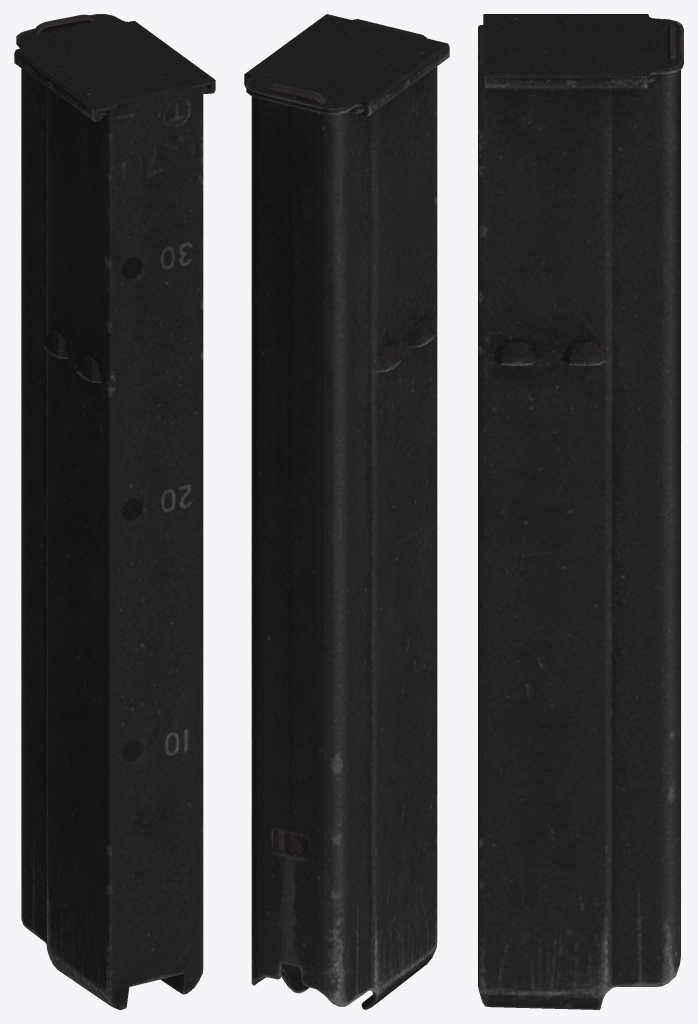
The picture shows the model from 3 angles, left to right: view 1: azimuth 30°, elevation 25°; view 2: azimuth 150°, elevation 25°; view 3: azimuth 270°, elevation 25°; orthographic projection. The views are drawn at different scales.
Parts seen in each view (by area): view 1: TW_62e153bcdb1a5c41971c1b5b_PZ_Import; view 2: TW_62e153bcdb1a5c41971c1b5b_PZ_Import; view 3: TW_62e153bcdb1a5c41971c1b5b_PZ_Import.
Boxes of the visible parts, x1,y1,x2,y2 form: TW_62e153bcdb1a5c41971c1b5b_PZ_Import: (14,14,215,1009); TW_62e153bcdb1a5c41971c1b5b_PZ_Import: (244,14,449,1009); TW_62e153bcdb1a5c41971c1b5b_PZ_Import: (478,14,683,1009).
Bounding box in the file's own units: 0.0155 × 0.0215 × 0.1106.
Materials: 1 (1 with a texture image).
